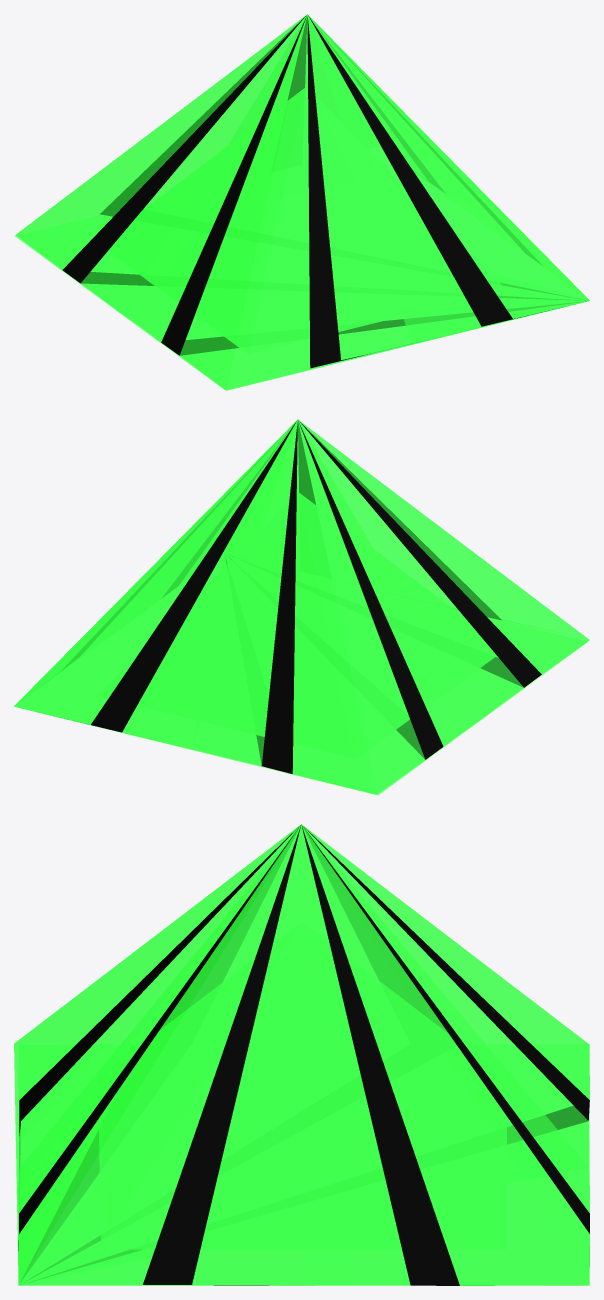
Rendered from MemoryGameRezItem1.fbx.
The picture shows the model from 3 angles, top to bottom: view 1: azimuth 30°, elevation 25°; view 2: azimuth 150°, elevation 25°; view 3: azimuth 270°, elevation 25°; orthographic projection. The views are drawn at different scales.
Parts seen in each view (by area): view 1: Cone; view 2: Cone; view 3: Cone.
Part boxes in pixels (x1=…): Cone: x1=14, y1=14, x2=589, y2=390; Cone: x1=14, y1=419, x2=589, y2=795; Cone: x1=14, y1=824, x2=589, y2=1285.
Size of the model in its own units: 201 by 133 by 202.
